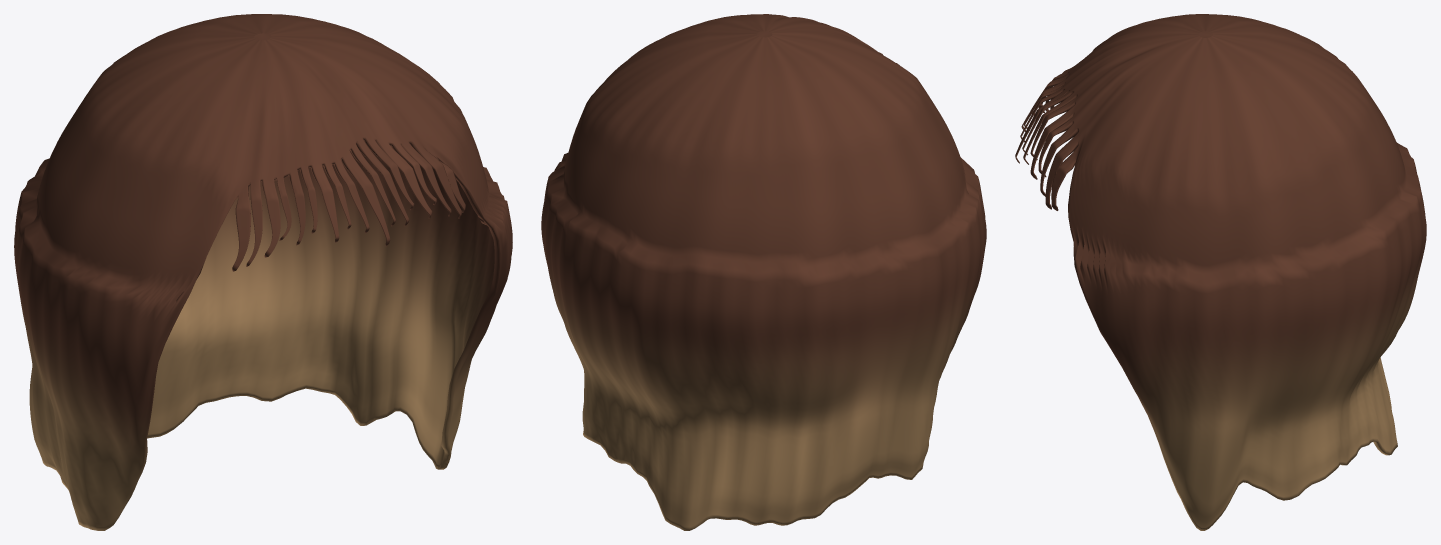
The model's file is side-sweep-beanie-ombre.glb.
3 views of the same model, side by side, from view 1: azimuth 30°, elevation 25°; view 2: azimuth 150°, elevation 25°; view 3: azimuth 270°, elevation 25° (orthographic). The views are drawn at different scales.
Parts seen in each view (by area): view 1: Wispy bangs / continuous crown; view 2: Wispy bangs / continuous crown; view 3: Wispy bangs / continuous crown.
Boxes of the visible parts, x1,y1,x2,y2 form: Wispy bangs / continuous crown: (14, 14, 512, 530); Wispy bangs / continuous crown: (541, 14, 986, 530); Wispy bangs / continuous crown: (1015, 14, 1426, 530).
Size of the model in its own units: 0.8388 by 0.8786 by 0.7796.
